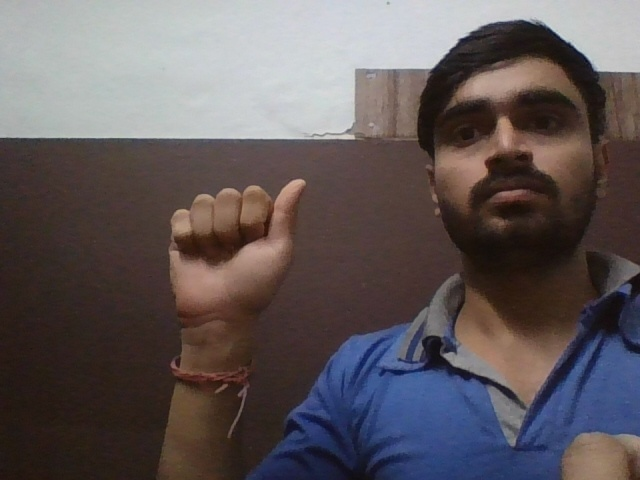A: (162, 171, 311, 329)
